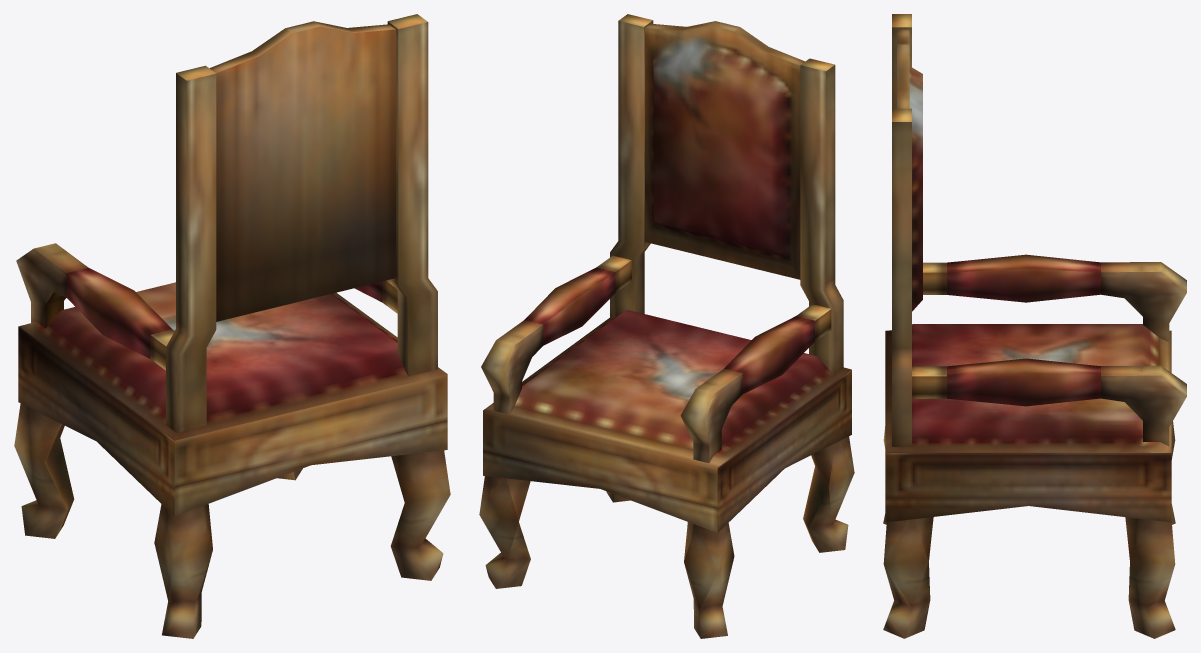
File: c_SWGchair01A_b.glb
3 views of the same model, side by side, from view 1: azimuth 30°, elevation 25°; view 2: azimuth 150°, elevation 25°; view 3: azimuth 270°, elevation 25° (orthographic). The views are drawn at different scales.
Parts seen in each view (by area): view 1: c_SWGchair01A_b; view 2: c_SWGchair01A_b; view 3: c_SWGchair01A_b.
Part boxes in pixels (<box>): c_SWGchair01A_b: <box>14,14,450,638</box>; c_SWGchair01A_b: <box>479,14,854,638</box>; c_SWGchair01A_b: <box>883,14,1186,638</box>.
Size of the model in its own units: 0.5944 by 1.17 by 0.6124.
1 material, 1 textured.
